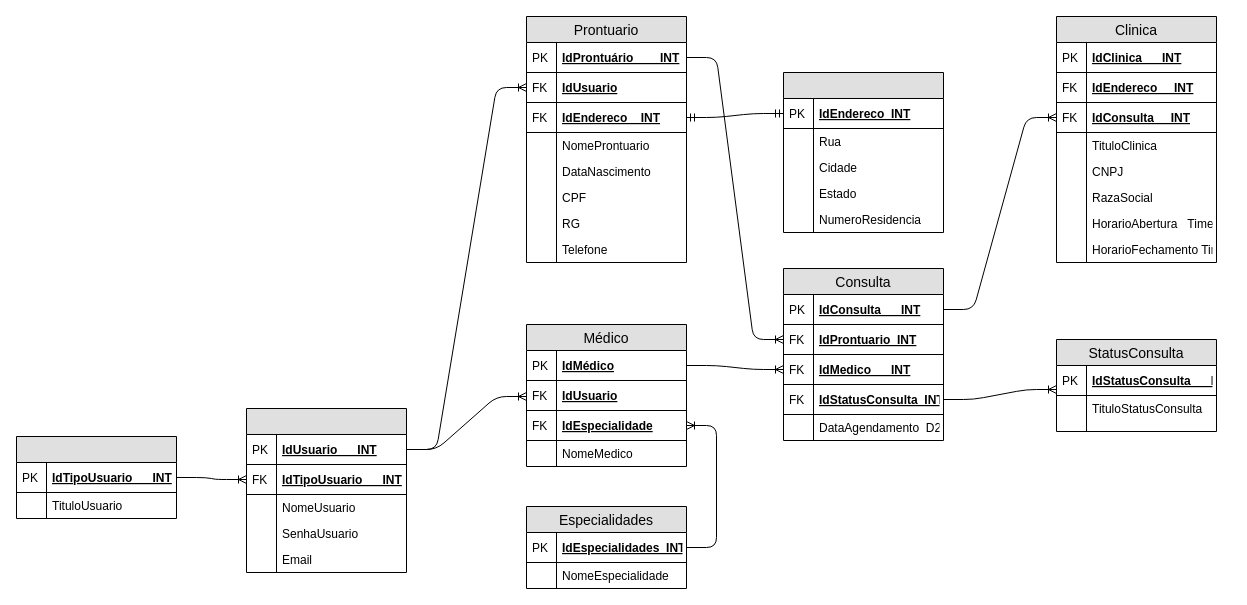
Some shapes in this 1247 by 605 pixel diagram are drawn without their labels. The shapes that lost their labels are listed below. From the top down, each one's box as (x1, y1, x2, y2) in pixels, then its label:
(782, 72, 944, 232): Endereço
(16, 436, 176, 518): TipoUsuário
(246, 408, 406, 572): Usuário
